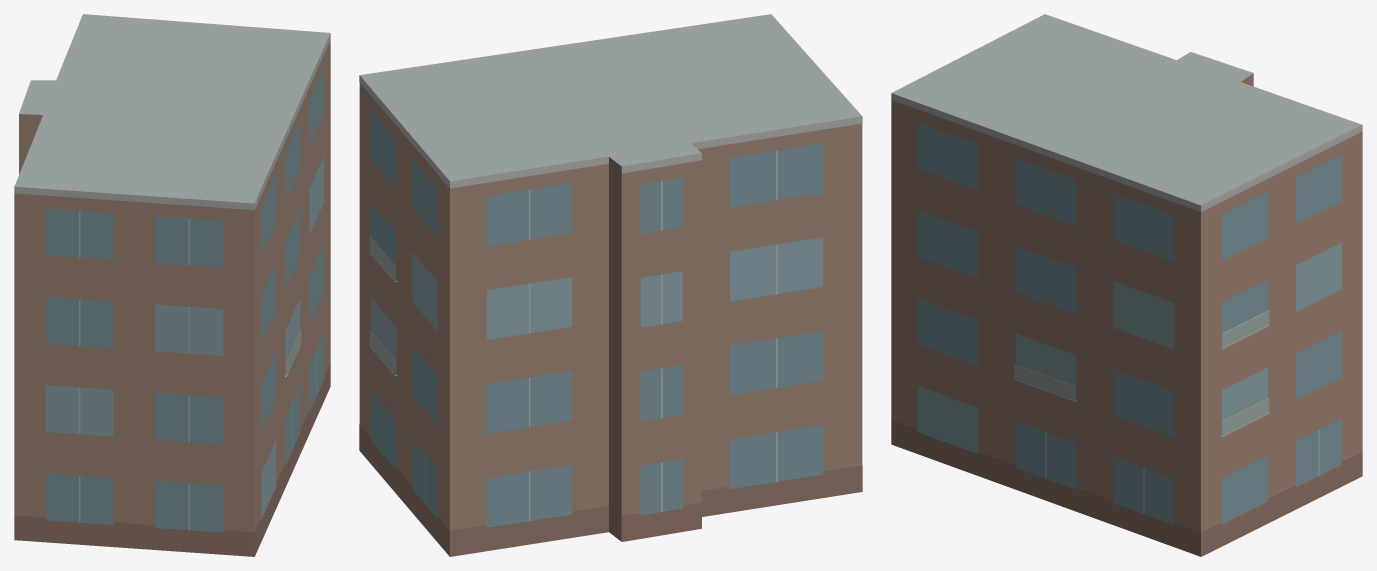
Rendered from survey-upis-32678573.glb.
3 views of the same model, side by side, from view 1: azimuth 30°, elevation 25°; view 2: azimuth 150°, elevation 25°; view 3: azimuth 270°, elevation 25° (orthographic). The views are drawn at different scales.
Visible parts, largest first — view 1: survey-upis-32678573.tmp; view 2: survey-upis-32678573.tmp; view 3: survey-upis-32678573.tmp.
Boxes of the visible parts, x1,y1,x2,y2 form: survey-upis-32678573.tmp: (14,14,330,556); survey-upis-32678573.tmp: (359,14,862,556); survey-upis-32678573.tmp: (891,14,1362,556).
Size of the model in its own units: 15.09 by 12.9 by 15.69.
